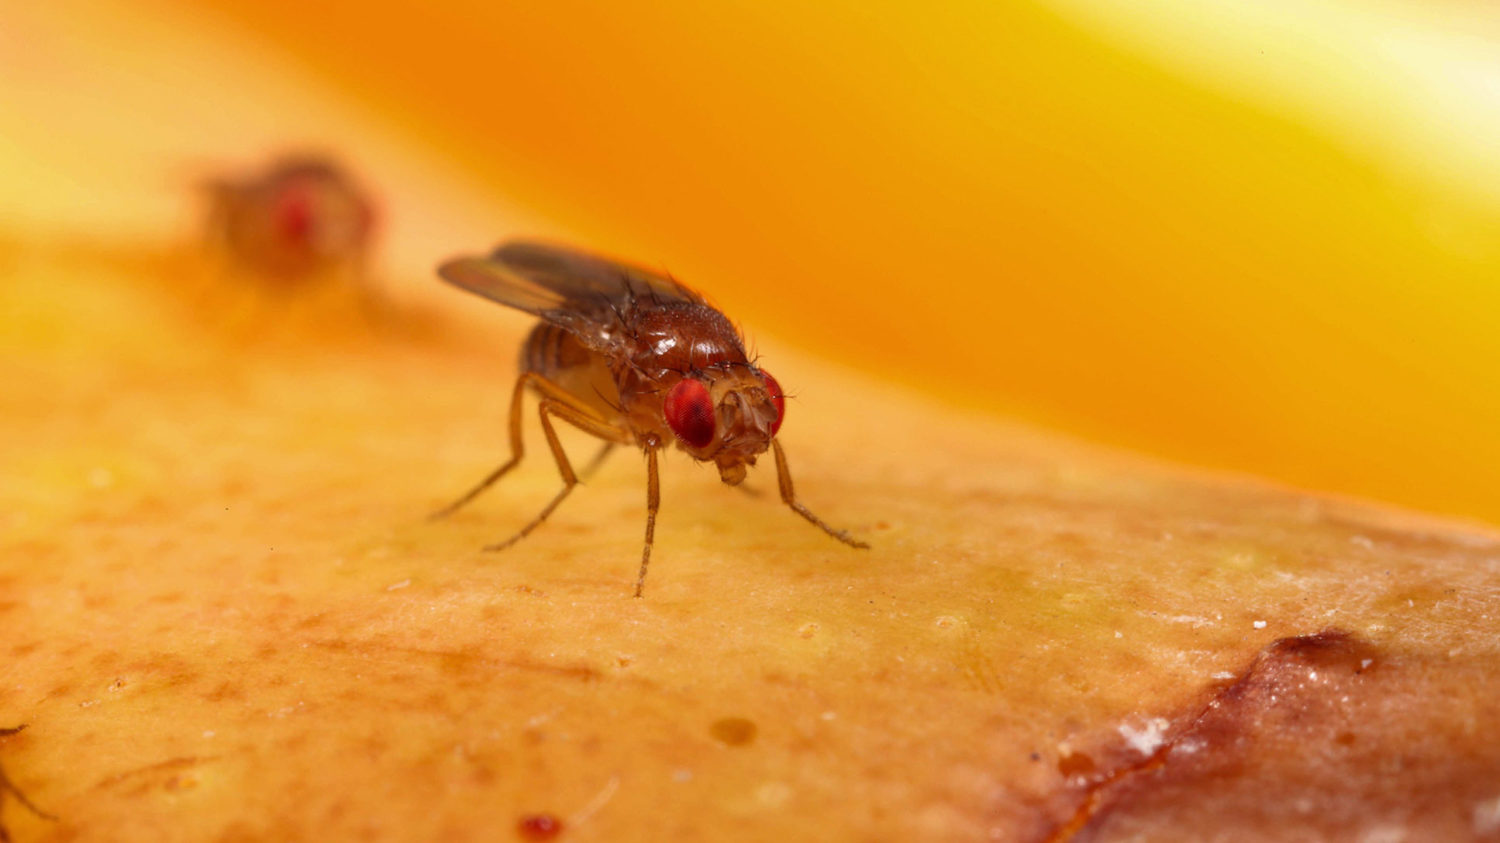Fruit fly: (378, 194, 875, 609)
